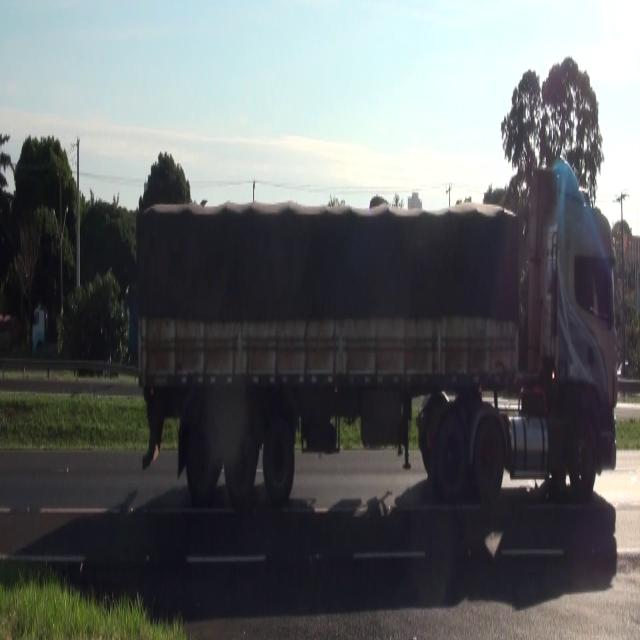-axle: (433, 407, 467, 500), (472, 410, 503, 506), (186, 401, 218, 492), (224, 411, 256, 496), (262, 413, 294, 496), (568, 422, 598, 495)
